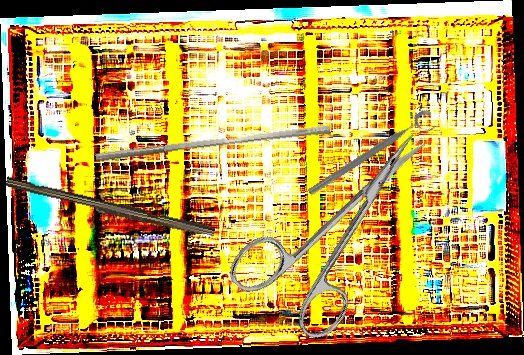Fixation Ring: (305, 107, 440, 206)
Iris Scissors: (221, 99, 468, 355)
Pusher: (95, 116, 331, 172)
Scalpel Handle: (3, 176, 217, 241)
